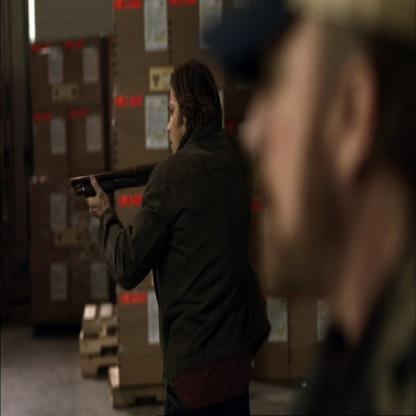Guns: (66, 158, 176, 220)
